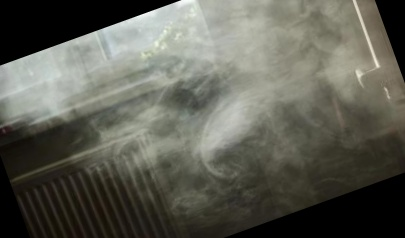smoke: (86, 0, 403, 194)
